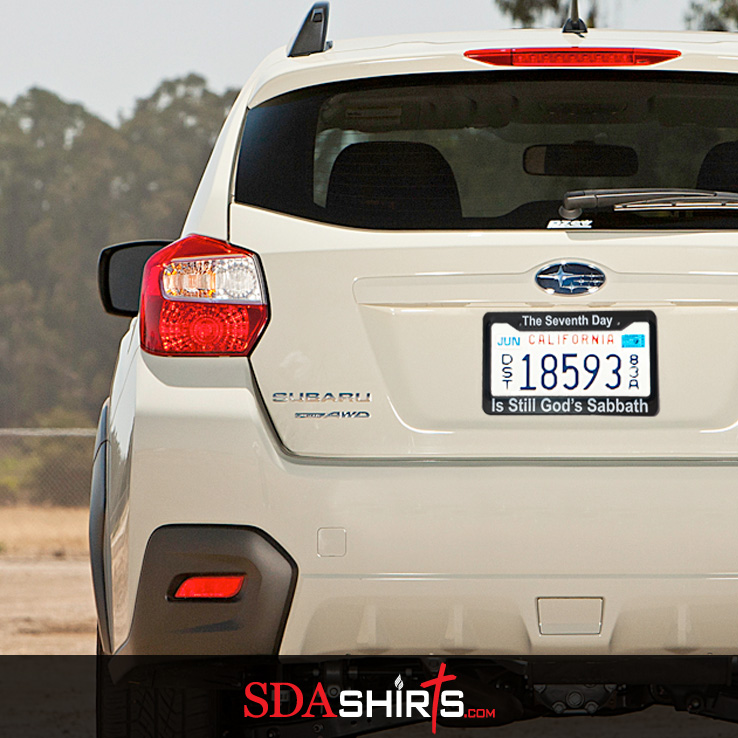license plate: (481, 310, 661, 421)
